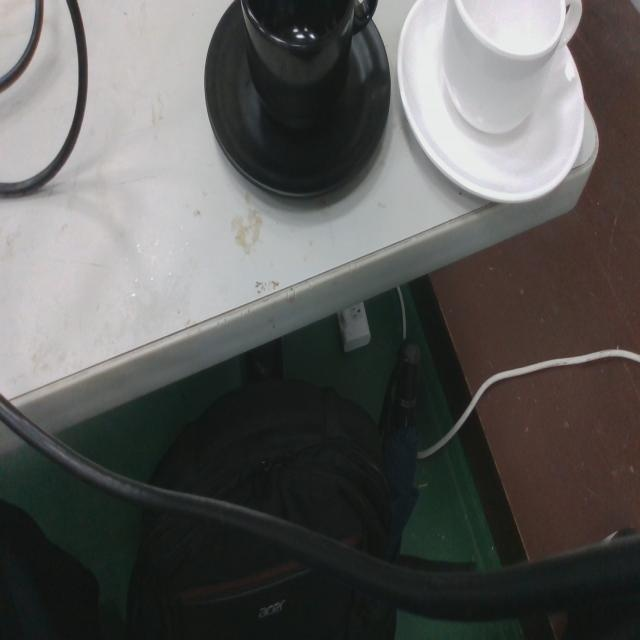black: (202, 0, 394, 207)
white: (395, 0, 588, 211)
